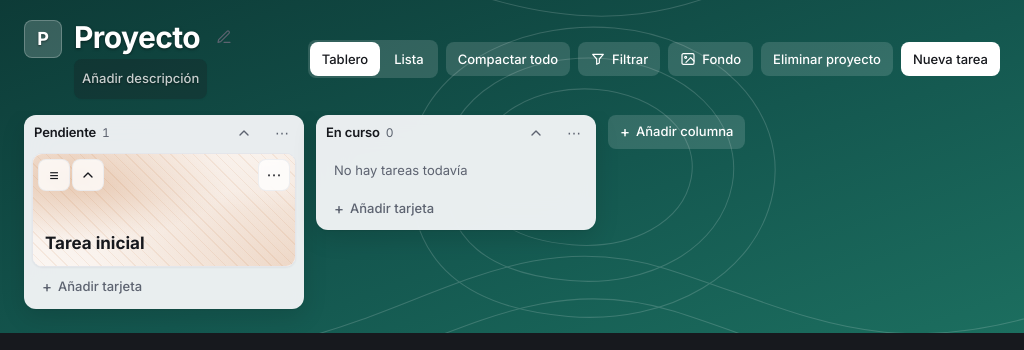
ProyectoDetalle › contrae una columna, deja solo títulos y recuerda la elección
Click the button named "contraer columna pendiente" at (244, 132), box [228,116,260,148]
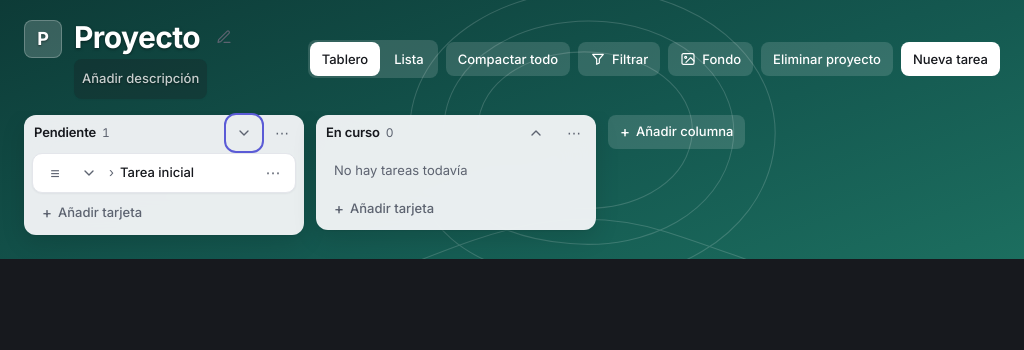
Expected: the element with class "tarjeta-kanban__portada" is gone
Expected: the button named "expandir columna pendiente" is collapsed, [228,116,260,148]
